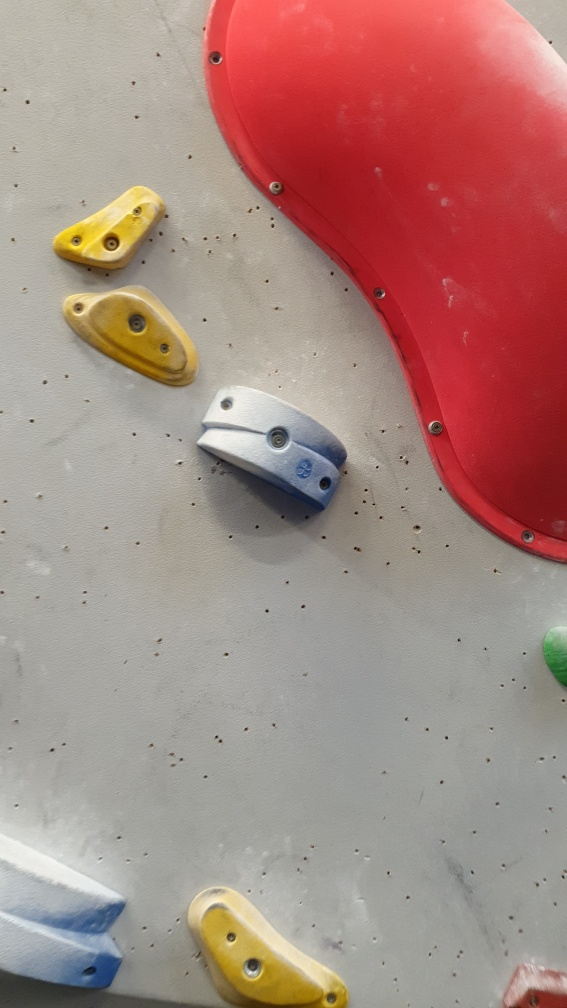Crimp: (198, 899, 327, 1008), (87, 290, 197, 384), (84, 195, 163, 269)
Pinch: (1, 823, 129, 985), (195, 382, 353, 511)
